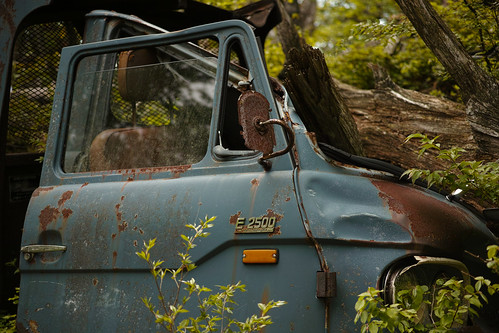car: (1, 1, 493, 330)
vegetation: (309, 1, 499, 147)
